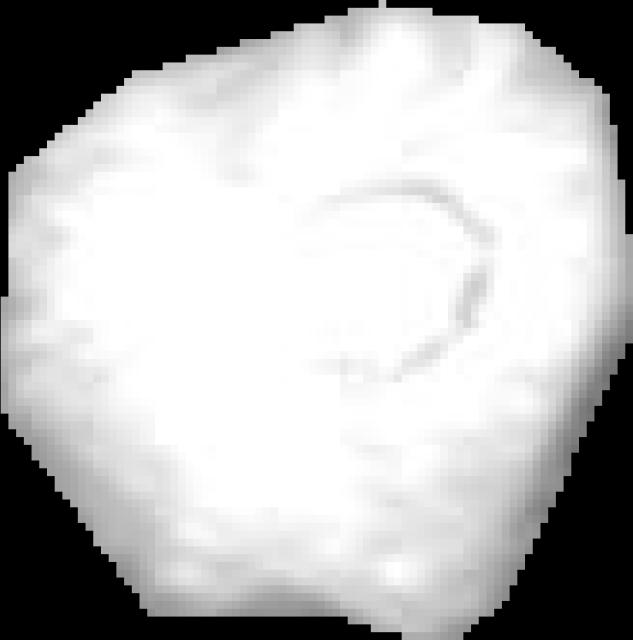tumor_good_chance: (1, 0, 633, 640)
